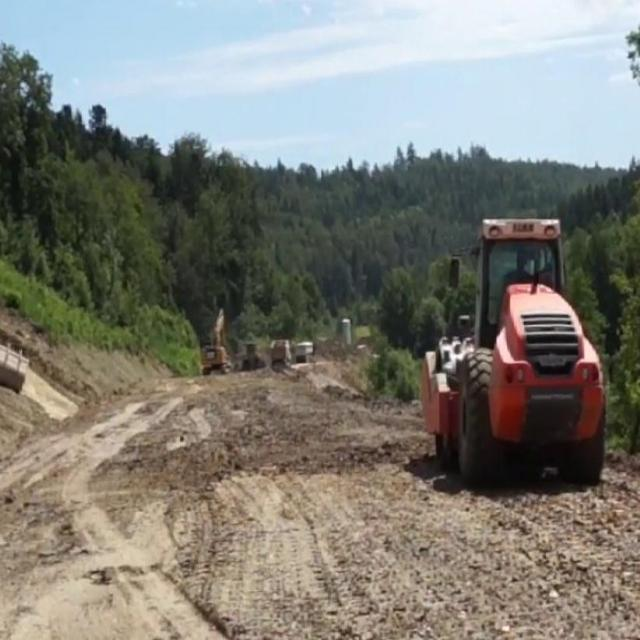Excavator: (198, 304, 224, 376)
Roller: (426, 216, 602, 483)
